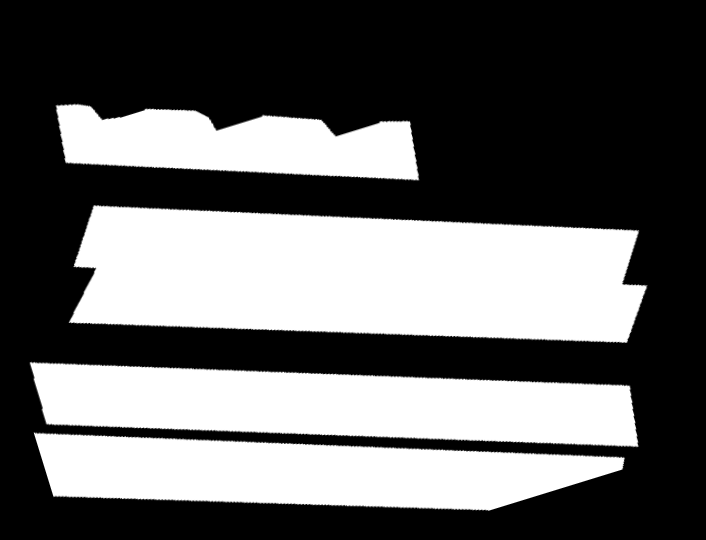parkingspot: (69, 205, 647, 343), (30, 362, 638, 447), (34, 433, 625, 511), (56, 104, 419, 180)
